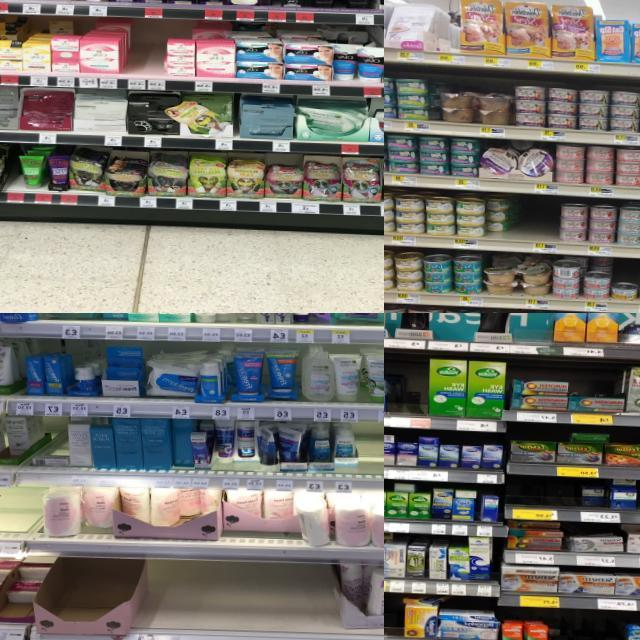Imprecise: (219, 489, 308, 547), (5, 550, 42, 633), (163, 100, 228, 134), (79, 486, 112, 544), (486, 192, 516, 242), (579, 479, 613, 519)
